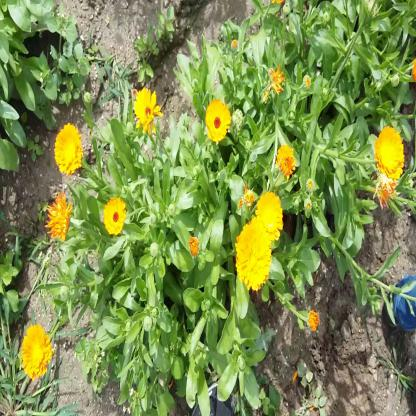marigold: (236, 223, 272, 290), (22, 324, 50, 378), (46, 192, 75, 240), (53, 123, 81, 172), (376, 128, 404, 176), (134, 87, 160, 130), (205, 99, 229, 140), (256, 194, 280, 234), (103, 195, 126, 236)
